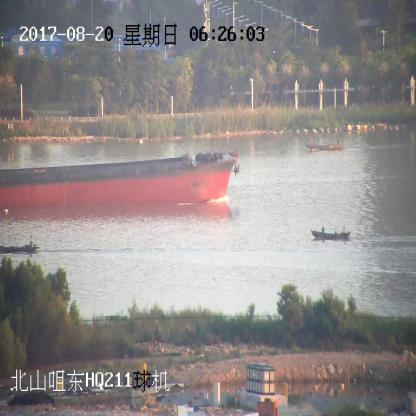Bulk Carrier: (0, 142, 241, 209)
